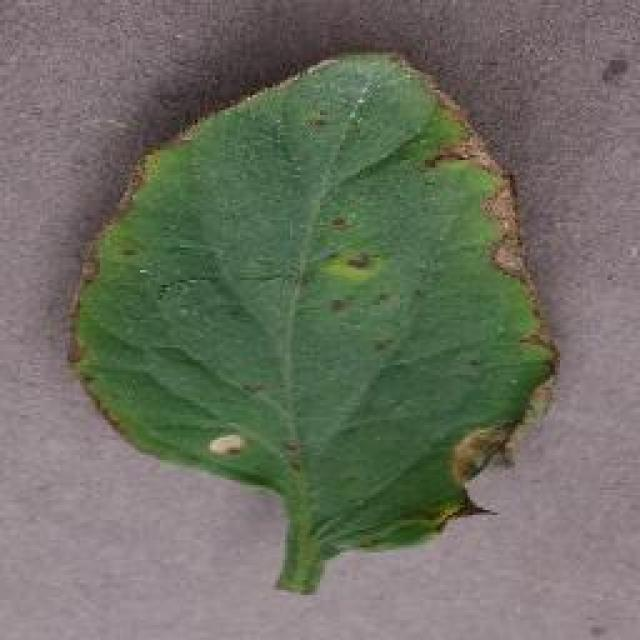Tomato bacterial spot leaf: (63, 41, 560, 546)
